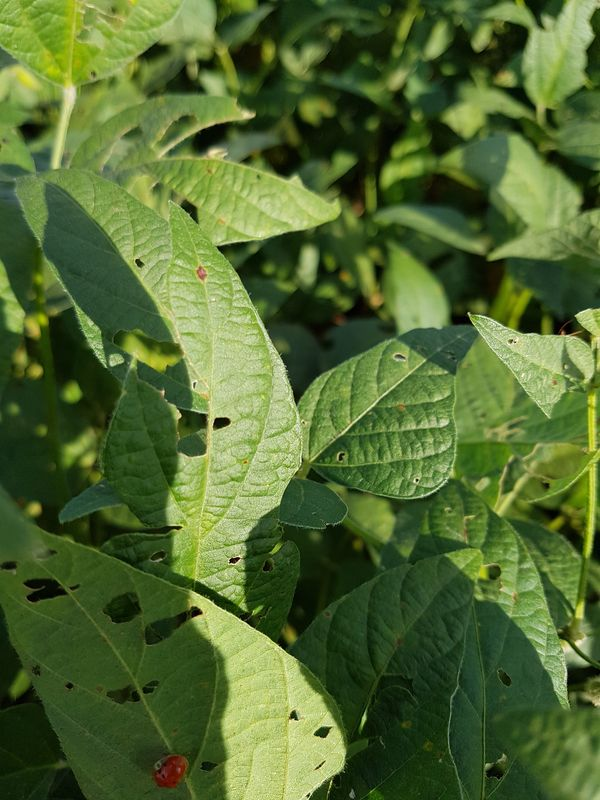Coccinellidae: (140, 739, 200, 796)
